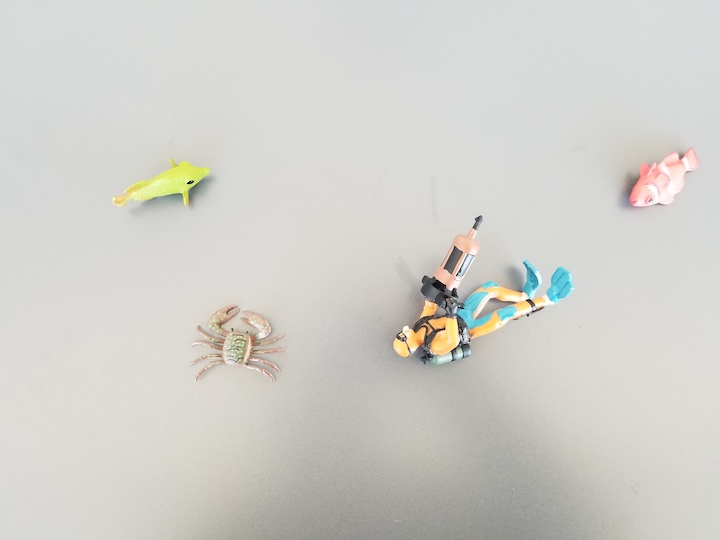crab: (191, 303, 287, 383)
diver: (388, 212, 576, 368)
fish: (110, 154, 212, 215), (628, 146, 701, 210)
